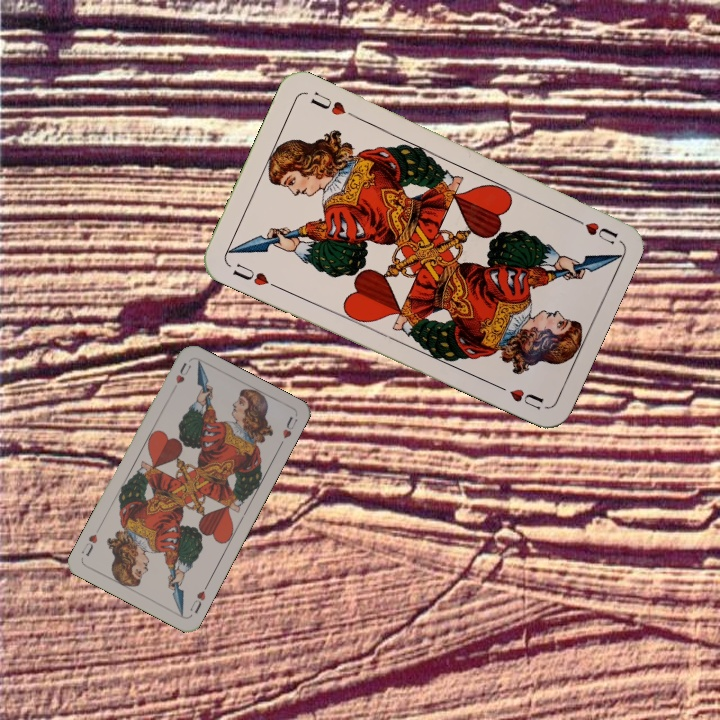HU: (565, 211, 621, 247), (228, 259, 281, 291), (168, 359, 194, 395), (186, 580, 211, 616)
